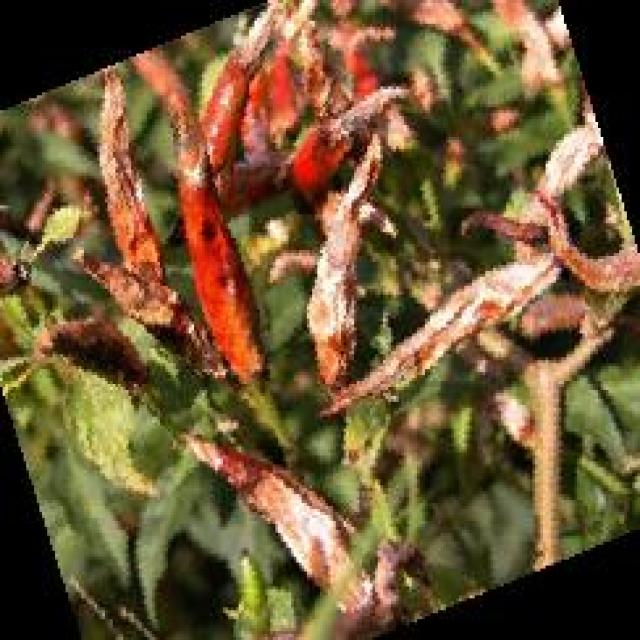Moko: (315, 176, 579, 434), (144, 410, 435, 618), (158, 49, 290, 391)
